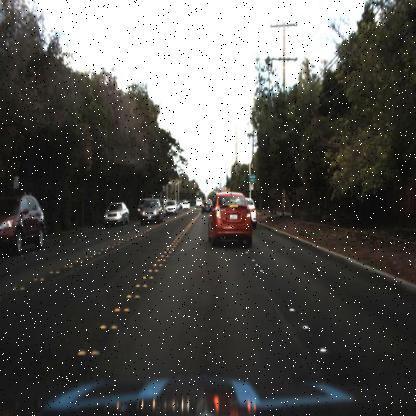car: (206, 187, 256, 251), (0, 192, 47, 255), (102, 197, 128, 231), (136, 196, 164, 227), (138, 198, 162, 224), (104, 202, 130, 223), (245, 196, 259, 224), (163, 198, 179, 216), (164, 198, 180, 216), (180, 197, 191, 213), (195, 193, 203, 209)
